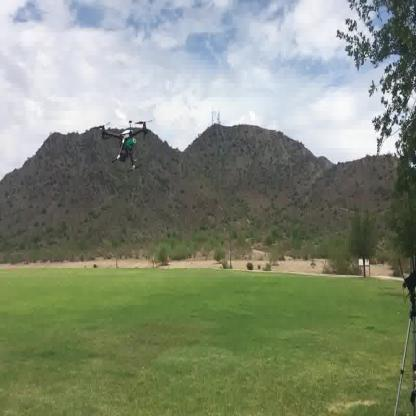drone: (99, 118, 155, 173)
